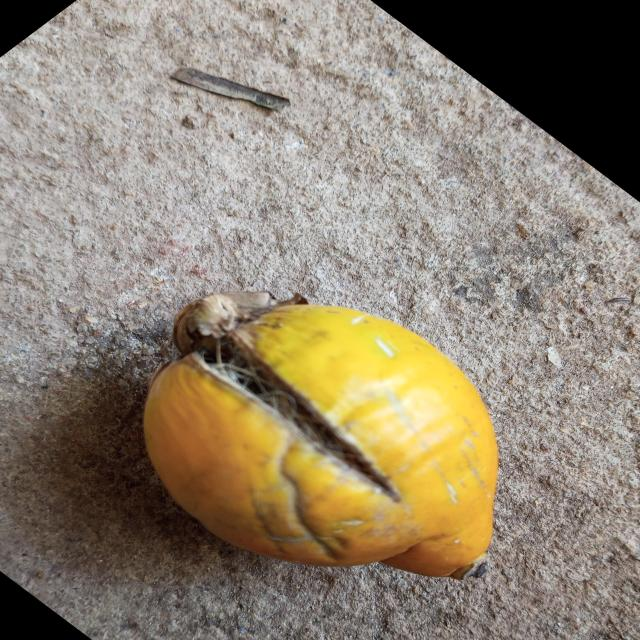damaged: (143, 297, 500, 581)
